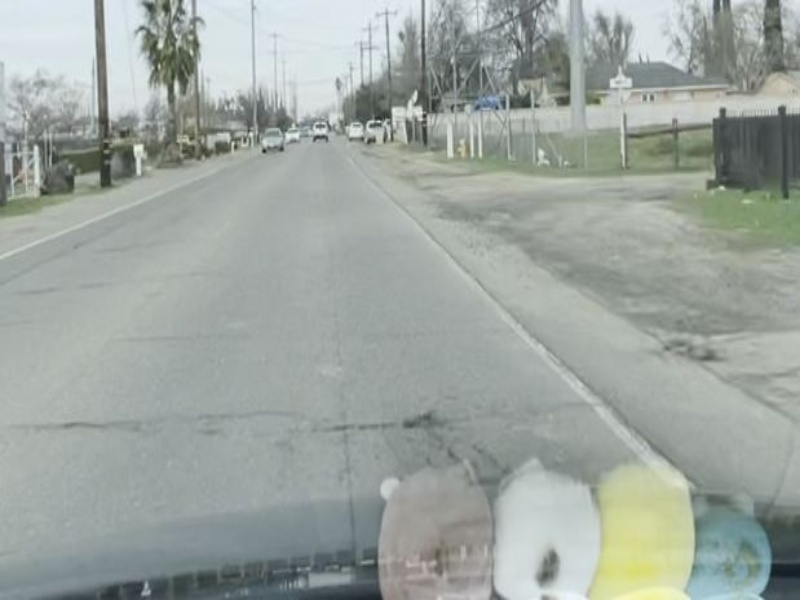pothole: (400, 413, 446, 430)
